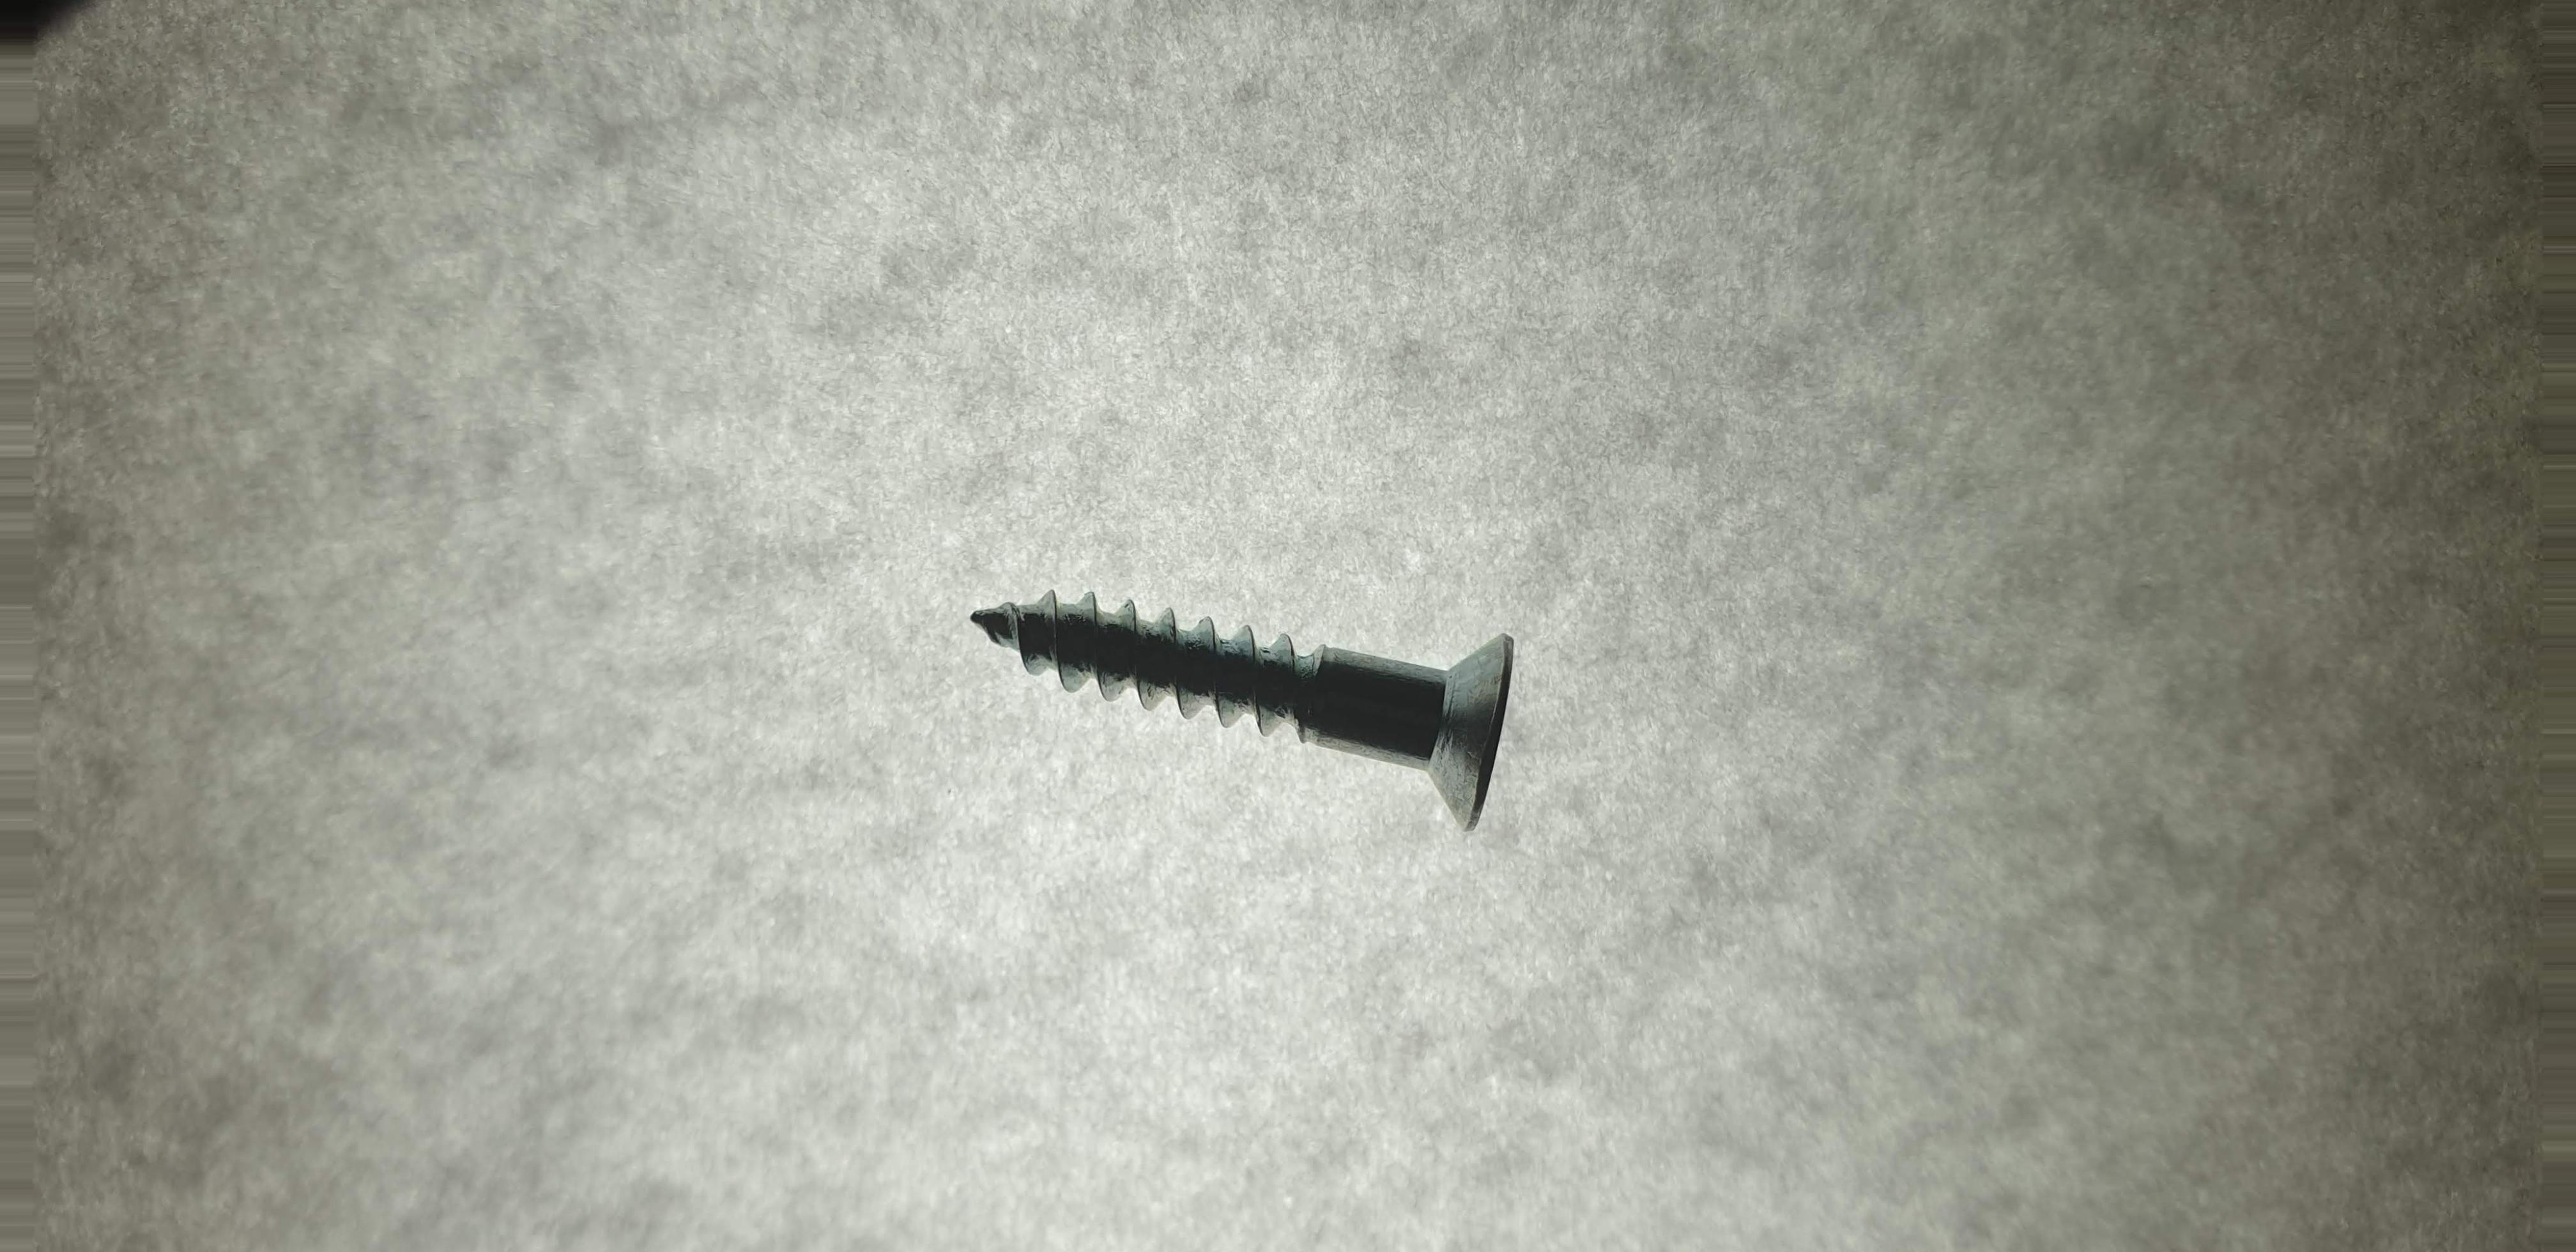S005: (894, 506, 1587, 859)
